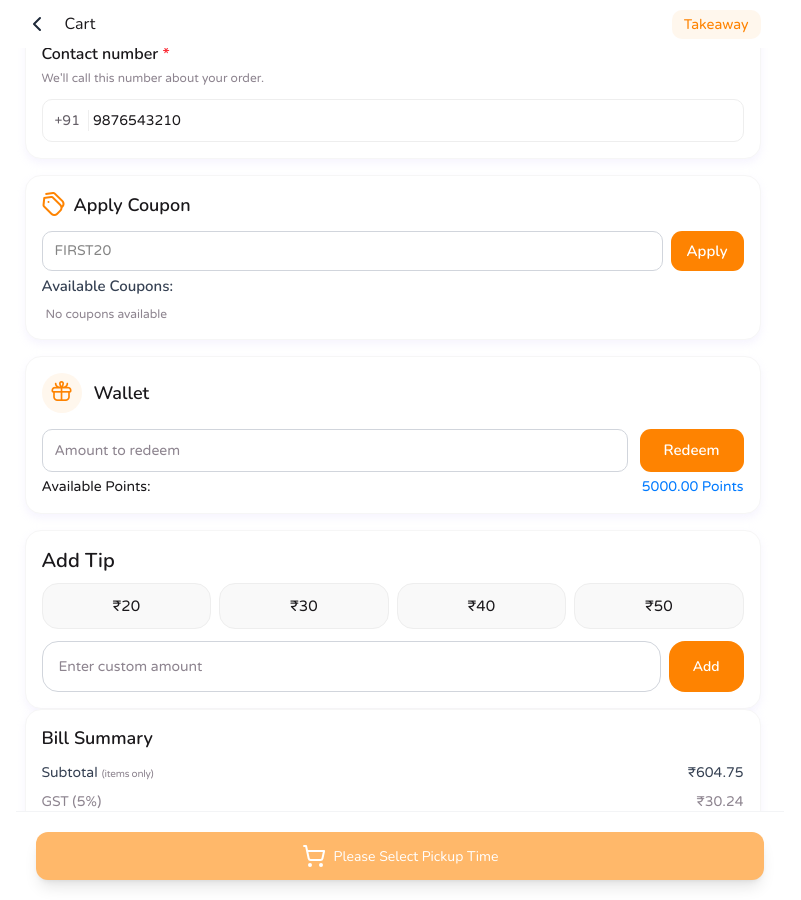
Cart — takeaway: wallet points and hand-off › cannot redeem more than the subtotal
(page scrolled)
Expected: the text "GST (5%)" is shown, [42,791,101,812]
Expected: the text "5000.00 Points" is shown, [642,476,744,496]
Type "605" into the number field named "Wallet points to redeem" at (334,450), box [42,428,628,472]
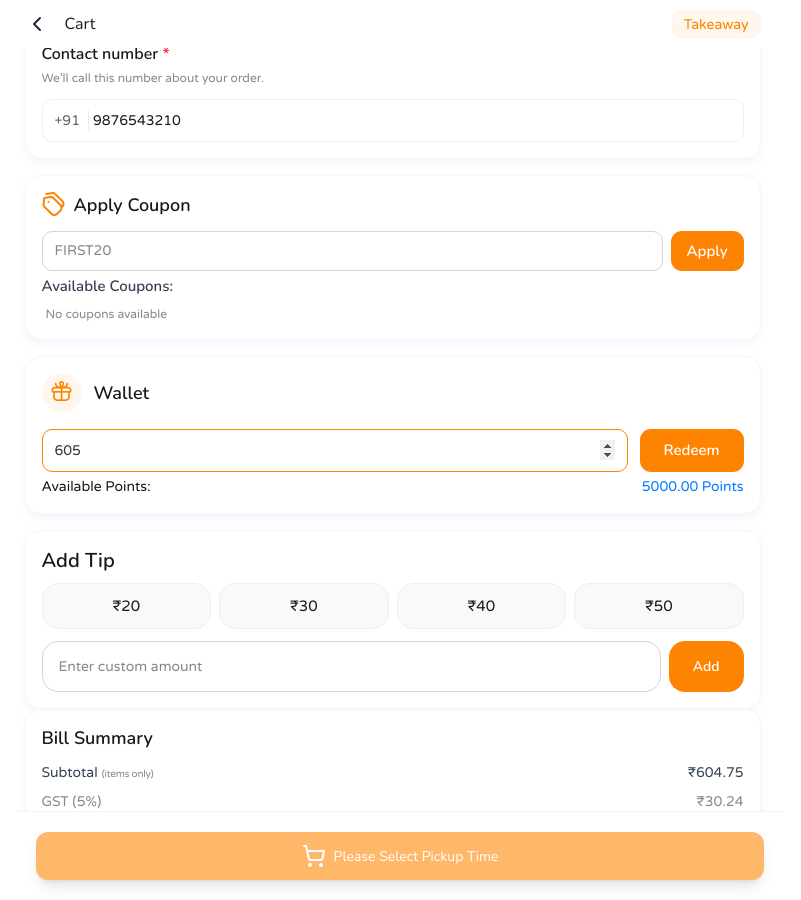
Click the button "Redeem" at (692,450), box [640,428,744,472]
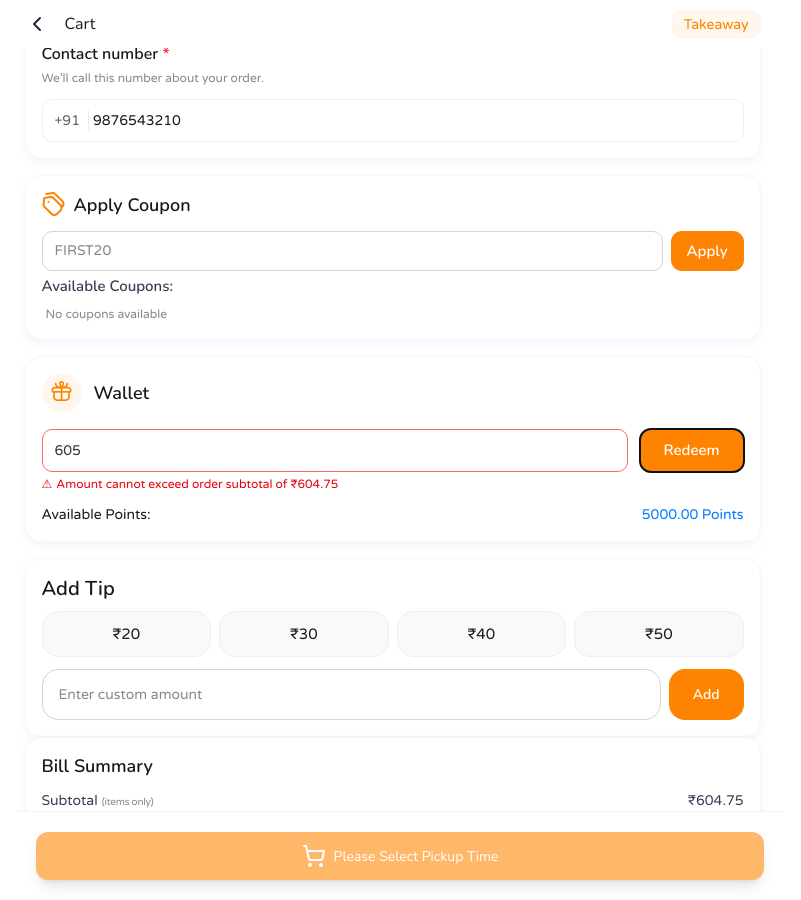
Expected: the message shows "cannot exceed order subtotal", [56,476,338,490]
